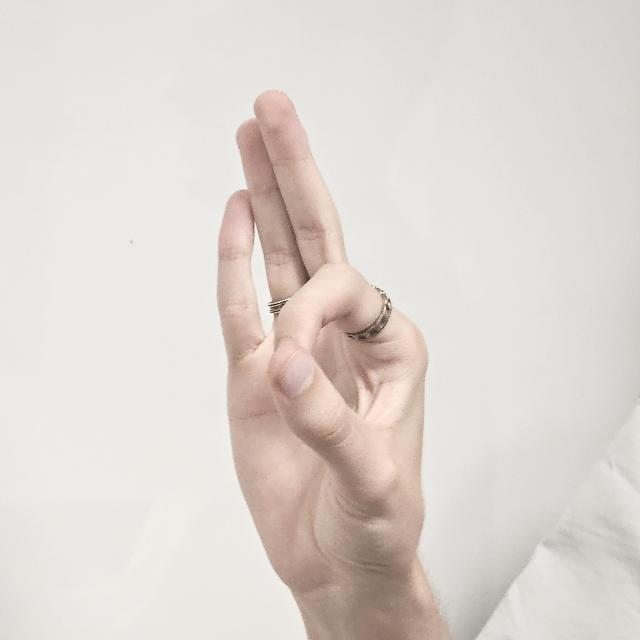Bolinha: (190, 72, 470, 632)
